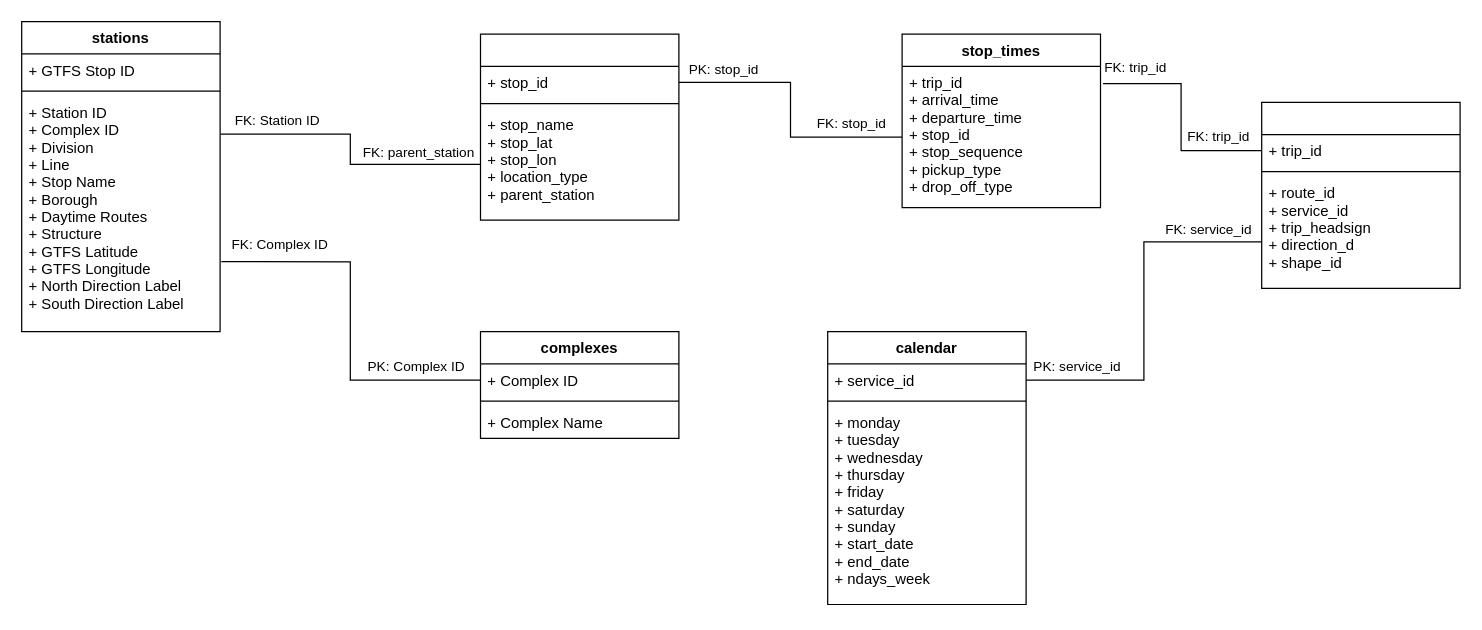
Some shapes in this 1482 by 630 pixel diagram are drawn without their labels. The shapes that lost their labels are listed below. From the top down, each one's box as (x1, y1, x2, y2) in pixels, then its label:
(479, 33, 679, 220): stops
(1260, 101, 1460, 288): trips
